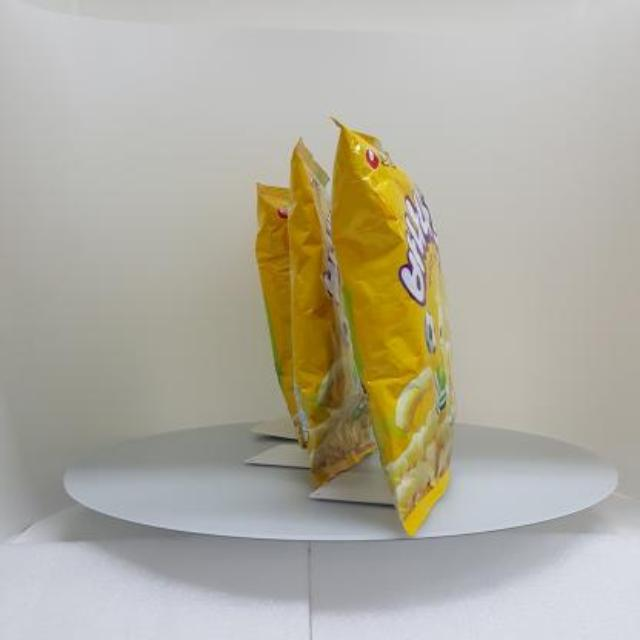snack_bag: (240, 104, 492, 548)
